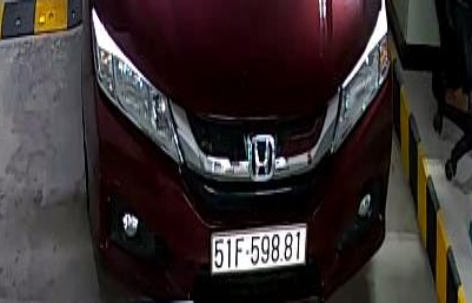plate: (208, 227, 306, 270)
